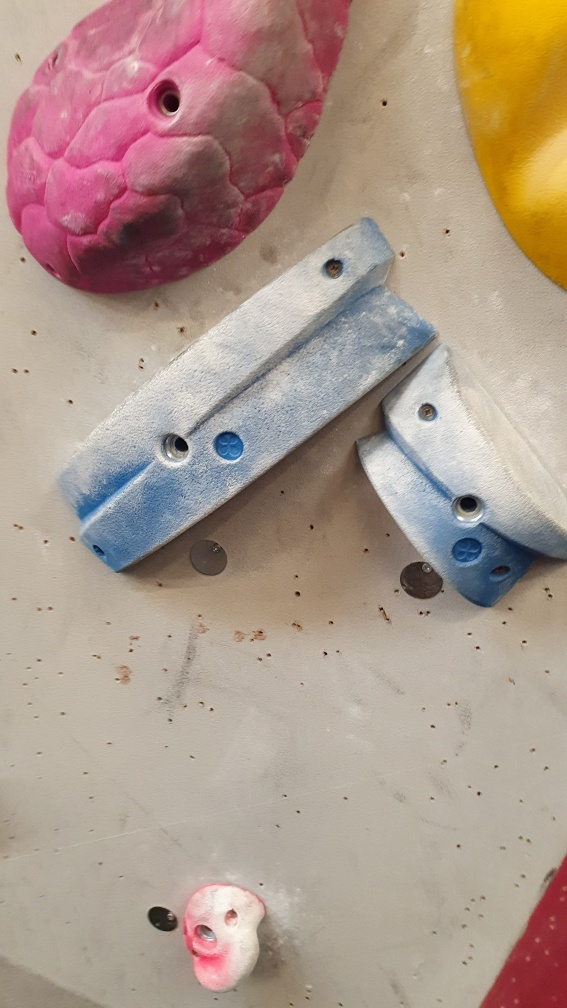Hand Start: (399, 556, 448, 605), (190, 539, 232, 578), (142, 902, 180, 937)
Pinch: (52, 214, 445, 582), (347, 343, 567, 608)
